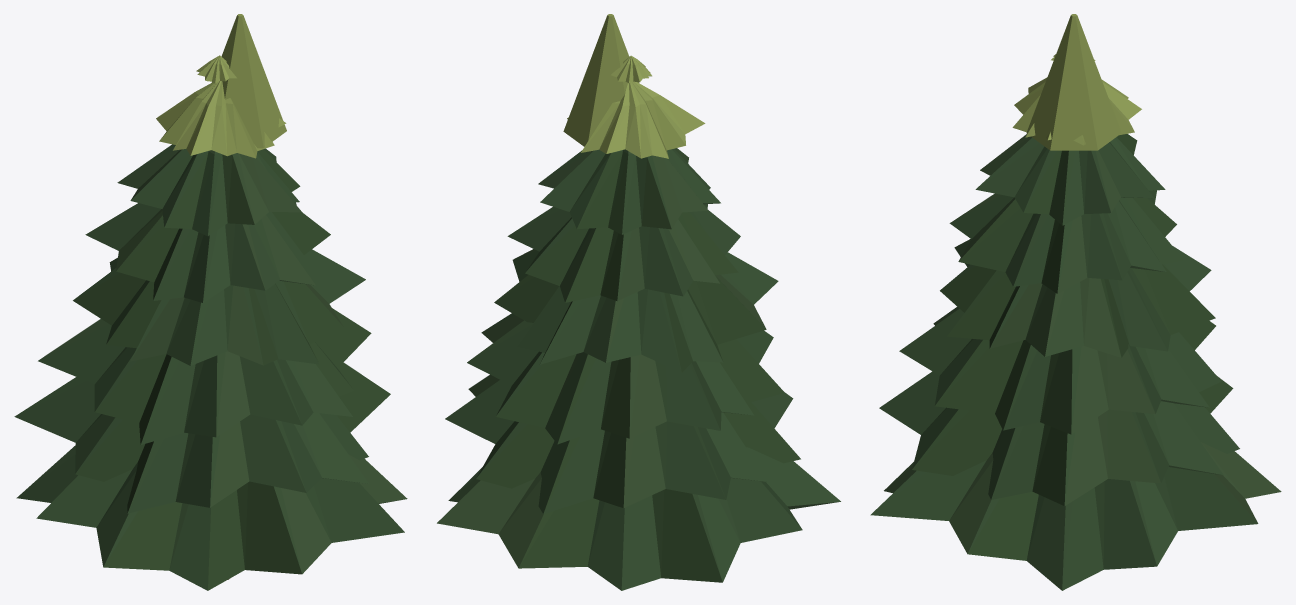
File: tree_pine_young_a.glb
The picture shows the model from 3 angles, left to right: view 1: azimuth 30°, elevation 25°; view 2: azimuth 150°, elevation 25°; view 3: azimuth 270°, elevation 25°; orthographic projection.
Parts seen in each view (by area): view 1: sapling_tier_0, sapling_leader; view 2: sapling_tier_0, sapling_leader; view 3: sapling_tier_0, sapling_leader.
Part boxes in pixels (x1,y1,x2,y2): sapling_tier_0: (14, 144, 407, 590); sapling_leader: (156, 14, 286, 158); sapling_tier_0: (437, 148, 840, 590); sapling_leader: (563, 14, 705, 158); sapling_tier_0: (870, 134, 1281, 590); sapling_leader: (1012, 14, 1141, 150).
Bounding box in the file's own units: 1.86 × 2.86 × 1.9.
